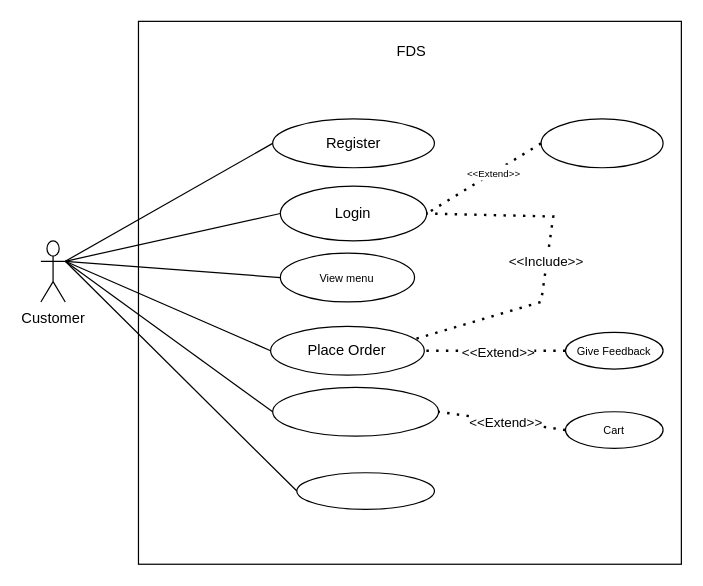
Image size: 703x586. Some labels were removed from this diagram. Each missing label, with the centre of its shape:
"Delivery" belongs at [365,490].
"Forget Password" belongs at [601,143].
"order" belongs at [355,411].
